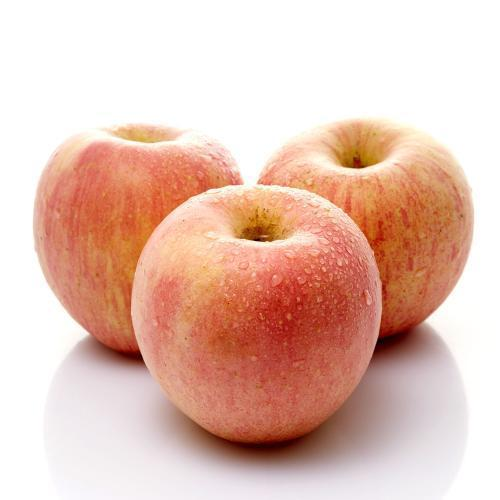apple: (124, 192, 379, 450), (29, 130, 243, 347), (251, 130, 474, 331)
